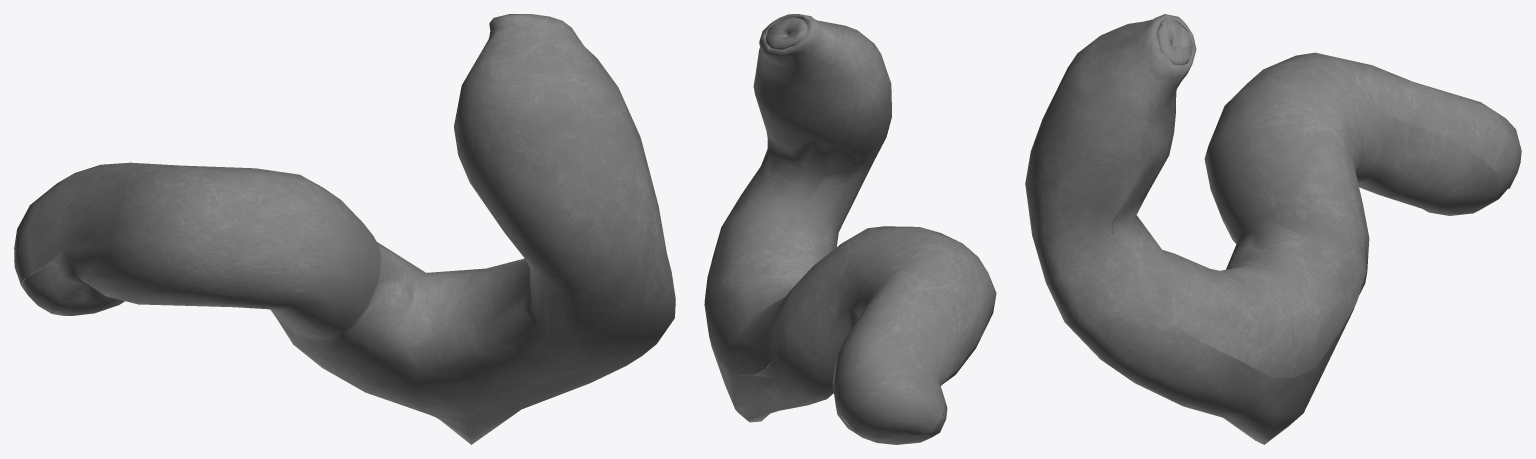
The model's file is kujira3.glb.
3 views of the same model, side by side, from view 1: azimuth 30°, elevation 25°; view 2: azimuth 150°, elevation 25°; view 3: azimuth 270°, elevation 25° (orthographic). The views are drawn at different scales.
Visible parts, largest first — view 1: BezierCurve.003_BezierCurve.008; view 2: BezierCurve.003_BezierCurve.008; view 3: BezierCurve.003_BezierCurve.008.
Boxes of the visible parts, box(x1,y1,x2,y2) form: BezierCurve.003_BezierCurve.008: box(14, 14, 675, 444); BezierCurve.003_BezierCurve.008: box(704, 14, 996, 444); BezierCurve.003_BezierCurve.008: box(1025, 14, 1521, 444).
Size of the model in its own units: 3.94 by 3.91 by 4.18.
Materials: 1 (1 with a texture image).
